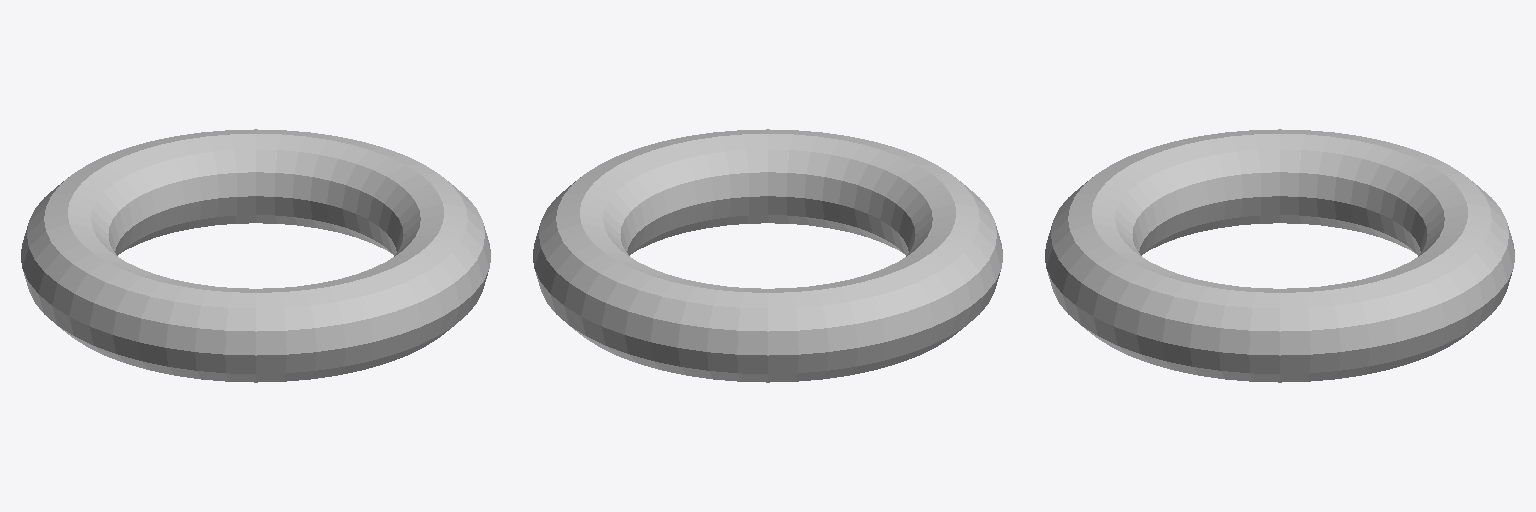
robot.urdf — ring:
<?xml version="1.0"?>
<!-- created with Phobos 1.0.1 "Capricious Choutengan" -->
  <robot name="ring">

    <link name="new_link">
      <inertial>
        <origin xyz="0 0 0" rpy="0 0 0"/>
        <mass value="10.0"/>
        <inertia ixx="3.78202" ixy="0" ixz="0" iyy="3.78202" iyz="0" izz="7.31467"/>
      </inertial>
      <visual name="Torus">
        <origin xyz="0 0 0" rpy="0 0 0"/>
        <geometry>
          <mesh filename="..\meshes\dae\Torus.dae" scale="1.0 1.0 1.0"/>
        </geometry>
        <material name="Material.001"/>
      </visual>
      <collision name="Torus">
        <origin xyz="0 0 0" rpy="0 0 0"/>
        <geometry>
          <mesh filename="..\meshes\dae\Torus.001.dae" scale="1.0 1.0 1.0"/>
        </geometry>
      </collision>
    </link>

    <material name="Material.001">
      <color rgba="0.8 0.8 0.8 1.0"/>
    </material>

  </robot>

--- Facts derived from the render (not from the file) ---
Views: 3 orthographic renders of the robot side by side, from view 1: azimuth 30°, elevation 25°; view 2: azimuth 150°, elevation 25°; view 3: azimuth 270°, elevation 25°.
Model ring with 1 links and 0 joints (none), rooted at new_link, posed all joints at 0.
Visible links, largest first — view 1: new_link; view 2: new_link; view 3: new_link.
Boxes of the visible links, box(x1,y1,x2,y2) form: new_link: box(21, 129, 490, 382); new_link: box(533, 129, 1002, 382); new_link: box(1045, 129, 1514, 382).
Bounding box of the posed robot: 2.5 × 2.5 × 0.5 m (x, y, z).
1 mesh visuals loaded from 1 distinct referenced files (1 Collada DAE).